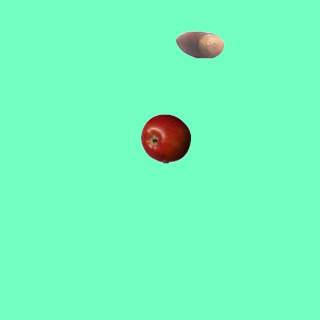Apple Braeburn: (140, 113, 190, 163)
Hazelnut: (174, 19, 224, 69)
